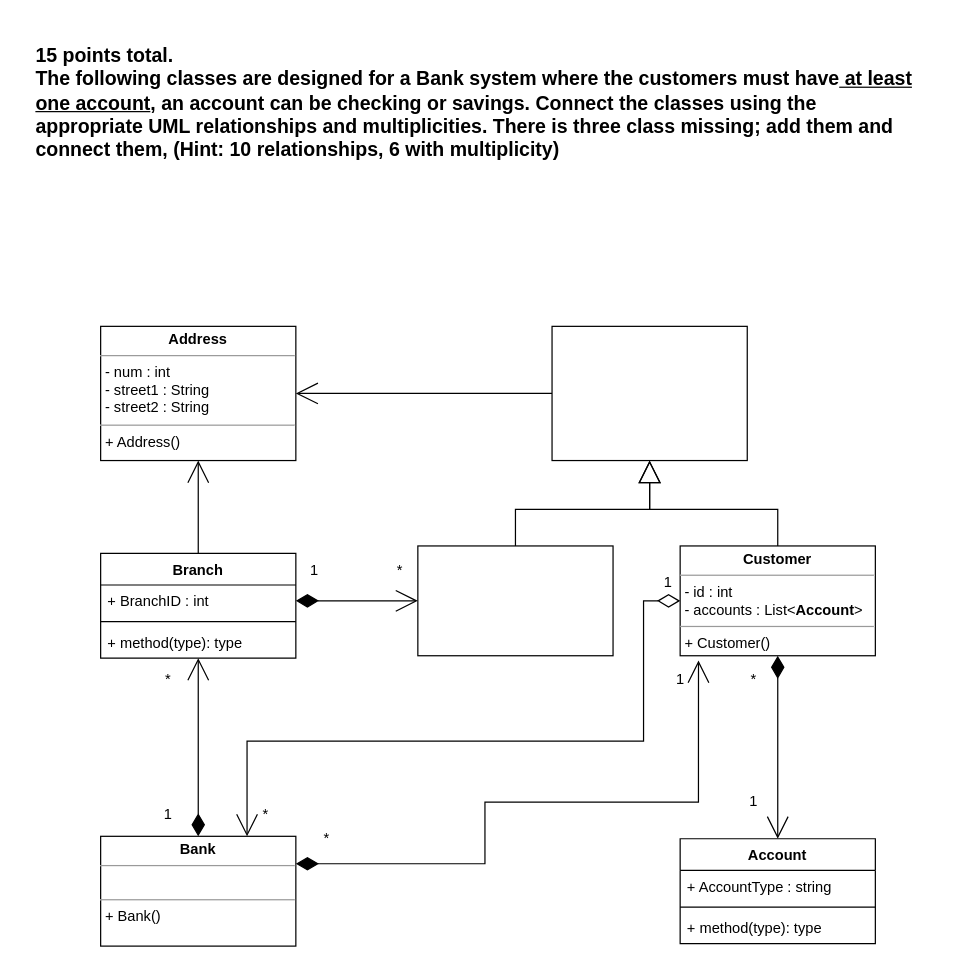
Image size: 969x969. Some labels were removed from this diagram. Each missing label, with the centre of its shape:
Person - name : String - ssn : int + Person(): (x=649, y=393)
Teller - id : int - branch : int + Teller(): (x=515, y=600)
